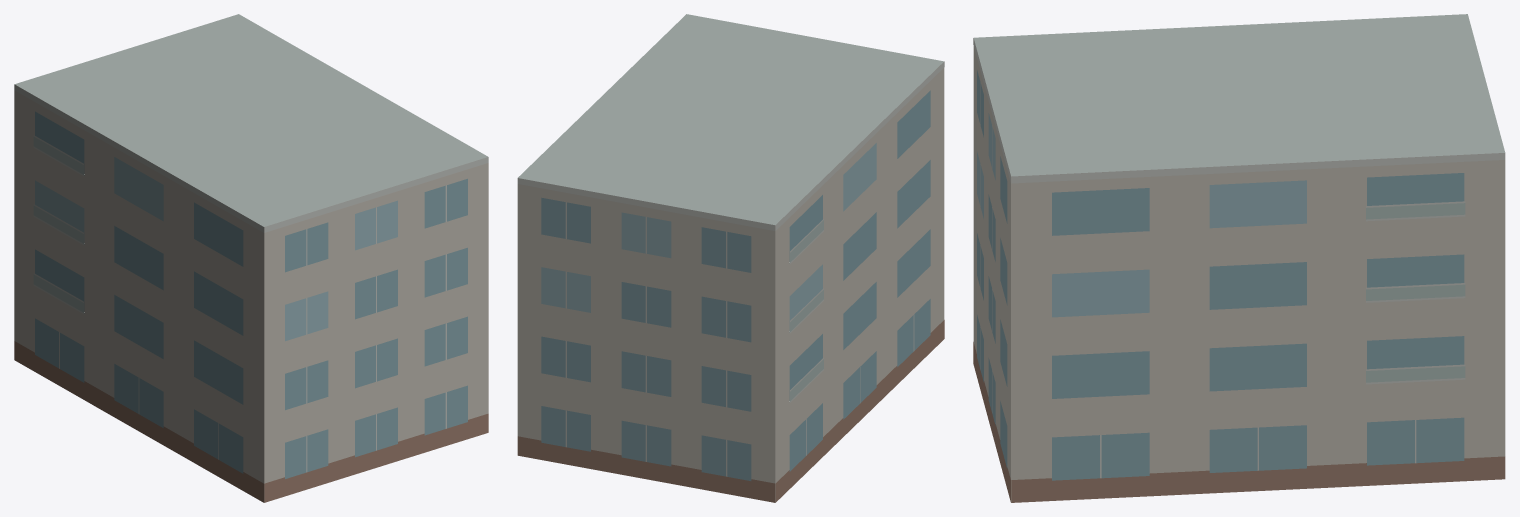
Rendered from survey-upis-32716260.glb.
3 views of the same model, side by side, from view 1: azimuth 30°, elevation 25°; view 2: azimuth 150°, elevation 25°; view 3: azimuth 270°, elevation 25° (orthographic). The views are drawn at different scales.
Visible parts, largest first — view 1: survey-upis-32716260.tmp; view 2: survey-upis-32716260.tmp; view 3: survey-upis-32716260.tmp.
Part boxes in pixels (box(x1,y1,x2,y2)): survey-upis-32716260.tmp: box(14, 14, 488, 502); survey-upis-32716260.tmp: box(517, 14, 944, 502); survey-upis-32716260.tmp: box(973, 14, 1505, 502).
Size of the model in its own units: 12.07 by 11.3 by 16.7.
